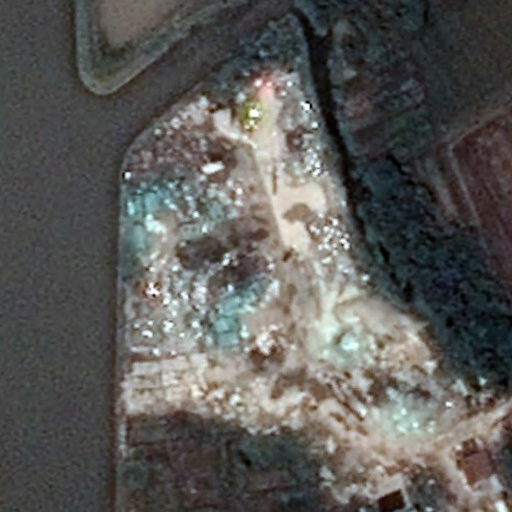msw: (121, 66, 447, 439)
